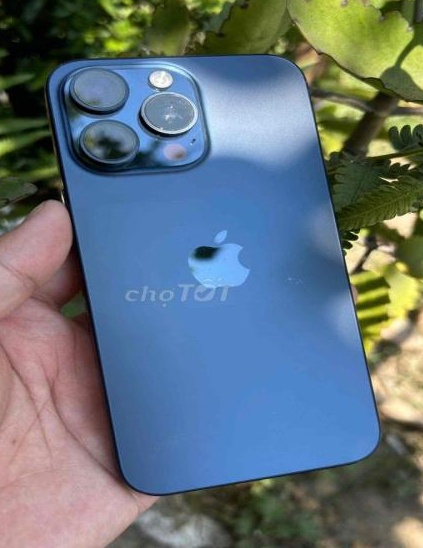scratch: (146, 84, 206, 140), (280, 265, 328, 300)
